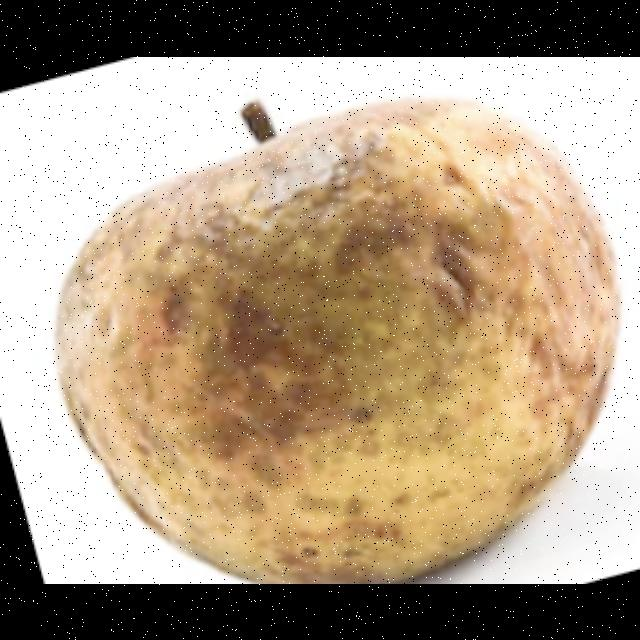Apel Tidak Segar: (49, 84, 622, 584)
